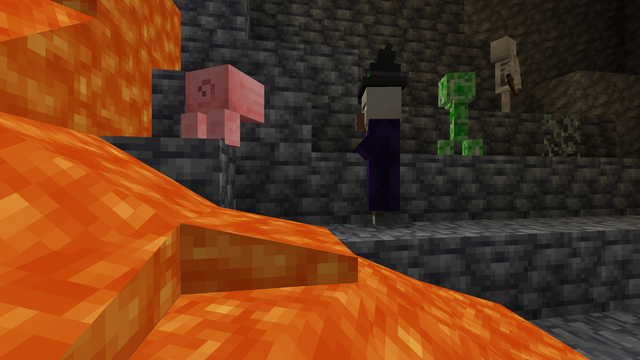cochons: (187, 64, 270, 154)
creepers: (432, 66, 480, 141)
sorcieres: (353, 78, 409, 227)
squelettes: (489, 36, 521, 107)
